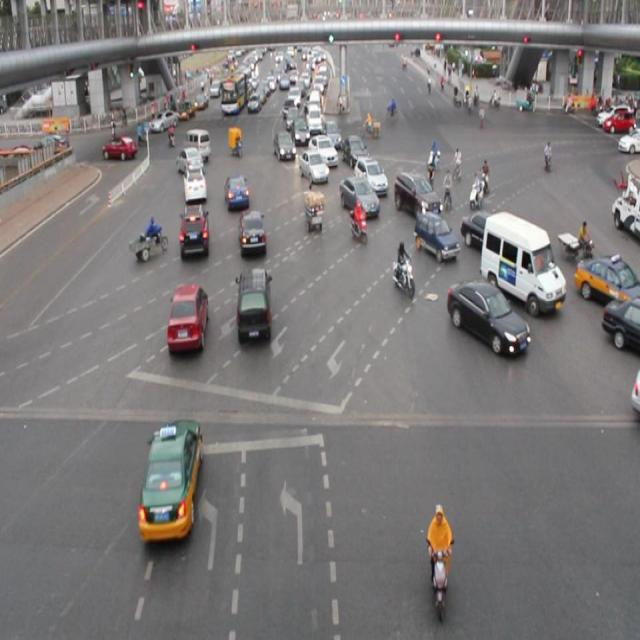car: (138, 419, 202, 543), (445, 280, 528, 356), (572, 254, 640, 308), (235, 267, 272, 345), (458, 209, 514, 258), (167, 284, 205, 354), (601, 294, 640, 355), (392, 170, 439, 220), (414, 211, 459, 261), (180, 204, 210, 259), (338, 174, 378, 215), (352, 155, 387, 195), (238, 210, 267, 256), (308, 133, 340, 168), (223, 174, 250, 212), (102, 133, 137, 161), (298, 150, 328, 182), (343, 134, 371, 168), (183, 164, 208, 202), (176, 146, 203, 176), (273, 128, 295, 160)
truck: (480, 213, 561, 312), (184, 128, 212, 160)
